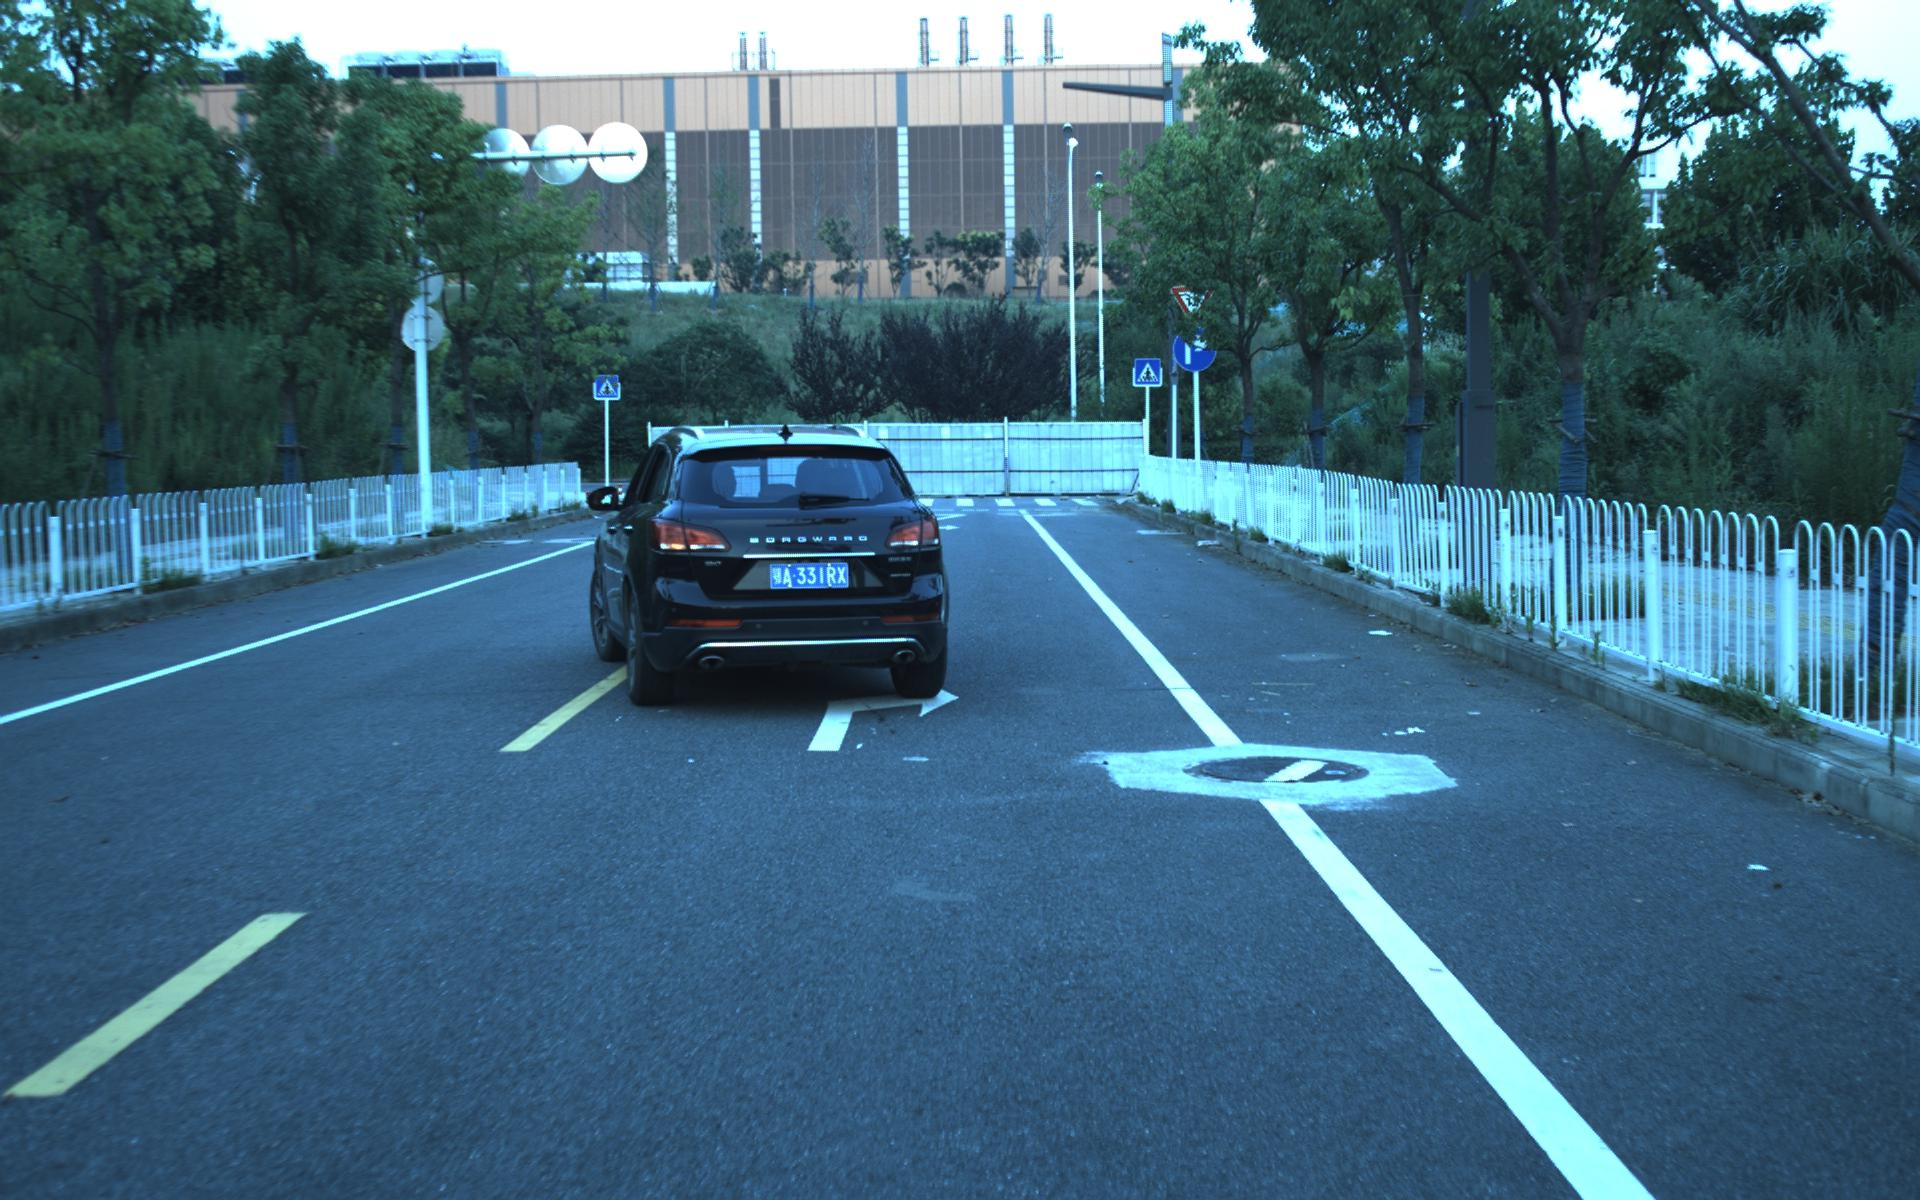Car: (587, 413, 958, 715)
